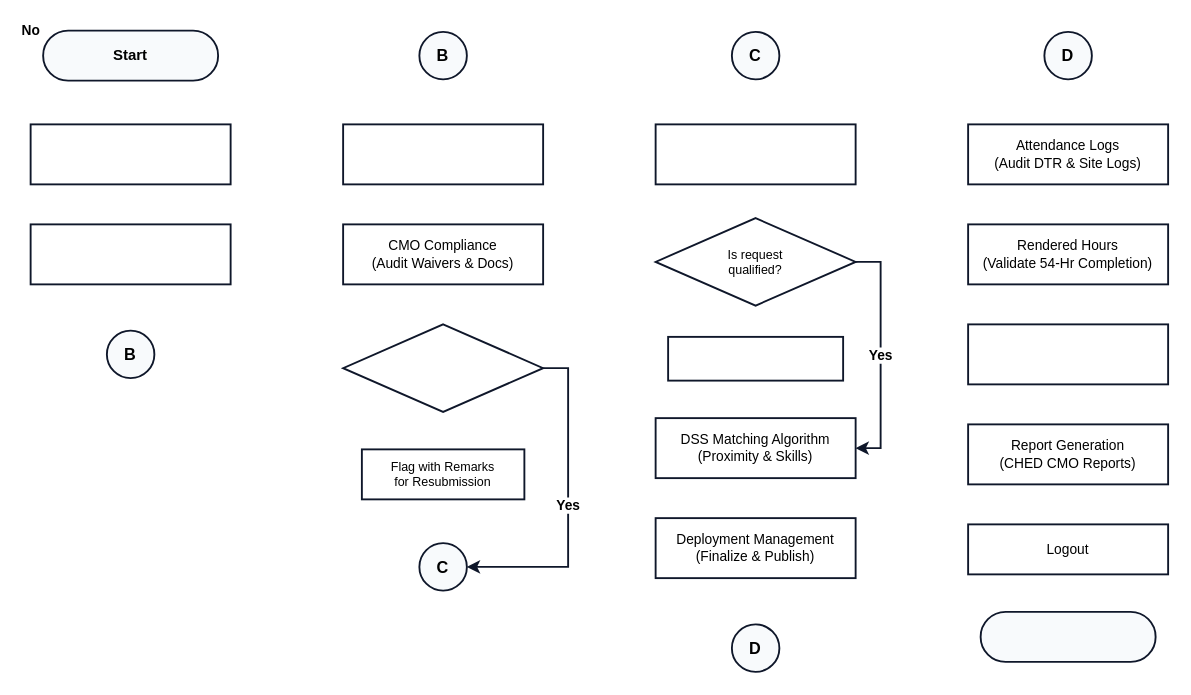
Some shapes in this 1191 by 695 pixel diagram are drawn without their labels. The shapes that lost their labels are listed below. From the top down, each one's box as (x1, y1, x2, y2) in pixels, then its label:
(29, 123, 231, 185): Login to Portal (Coordinator Credentials)
(342, 123, 544, 185): User Management (Students & Partners)
(654, 123, 856, 185): Community Requests (Review Partner Proposals)
(29, 223, 231, 285): Executive Dashboard (KPI Stats & Charts)
(342, 323, 544, 412): Are documents approved?
(667, 335, 844, 381): Reject / Request Revision
(967, 323, 1168, 385): Feedback & Evaluation (Audit 360-Degree Ratings)
(979, 610, 1156, 662): End
